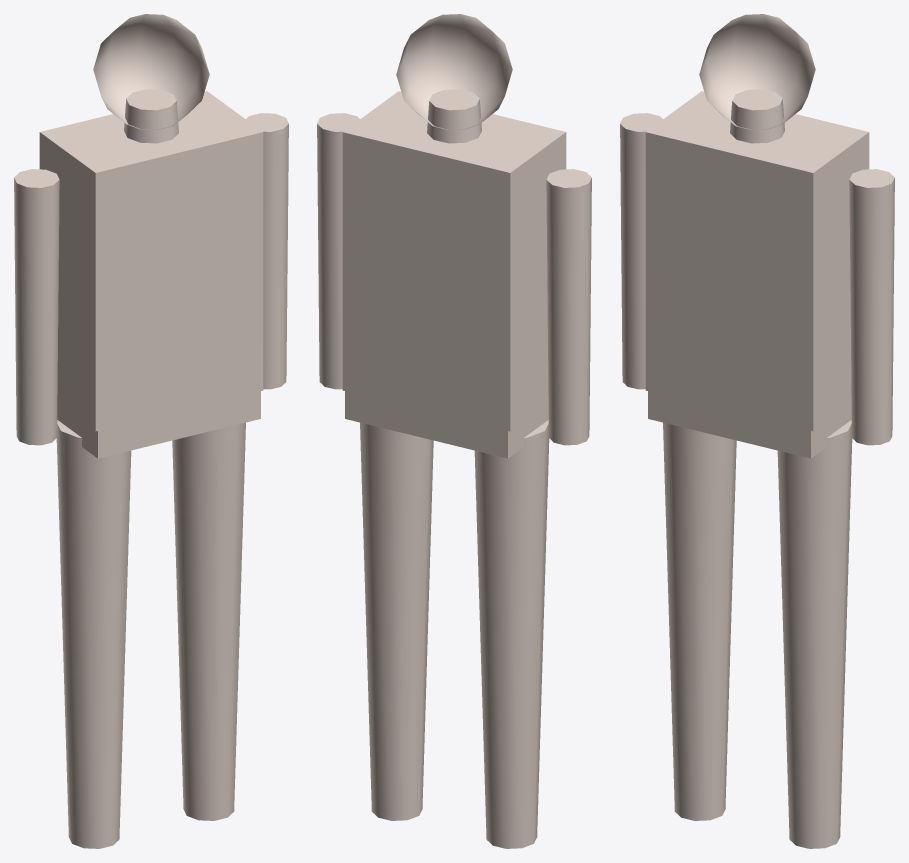
File: body-b.glb
3 renders of one model, left to right at view 1: azimuth 30°, elevation 25°; view 2: azimuth 150°, elevation 25°; view 3: azimuth 330°, elevation 25°, orthographic.
Visible parts, largest first — view 1: body-b; view 2: body-b; view 3: body-b.
Part boxes in pixels (left/top/right/bottom): body-b: left=14, top=14, right=288, bottom=848; body-b: left=317, top=14, right=591, bottom=848; body-b: left=620, top=14, right=894, bottom=848.
Size of the model in its own units: 0.61 by 1.74 by 0.22.
